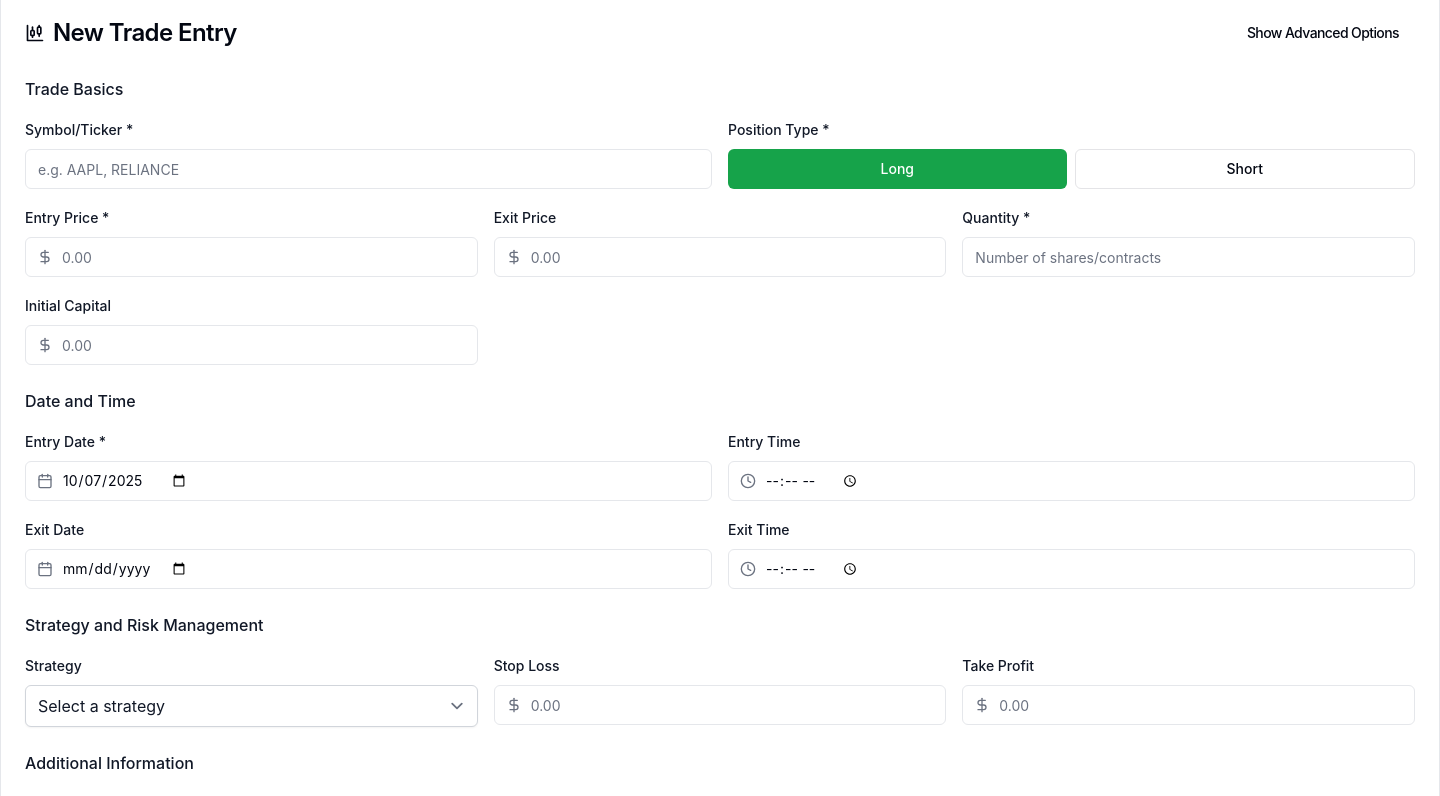
Test: TradeForm Component › renders advanced options when button is clicked
Check: the text "Advanced Trade Details" is not shown
// Click the show advanced options button
What coordinates should you click on to do the following:
click the button "Show Advanced Options"
I would click on:
 (1323, 33)
Its box is [1231,13,1415,53].
(page scrolled)
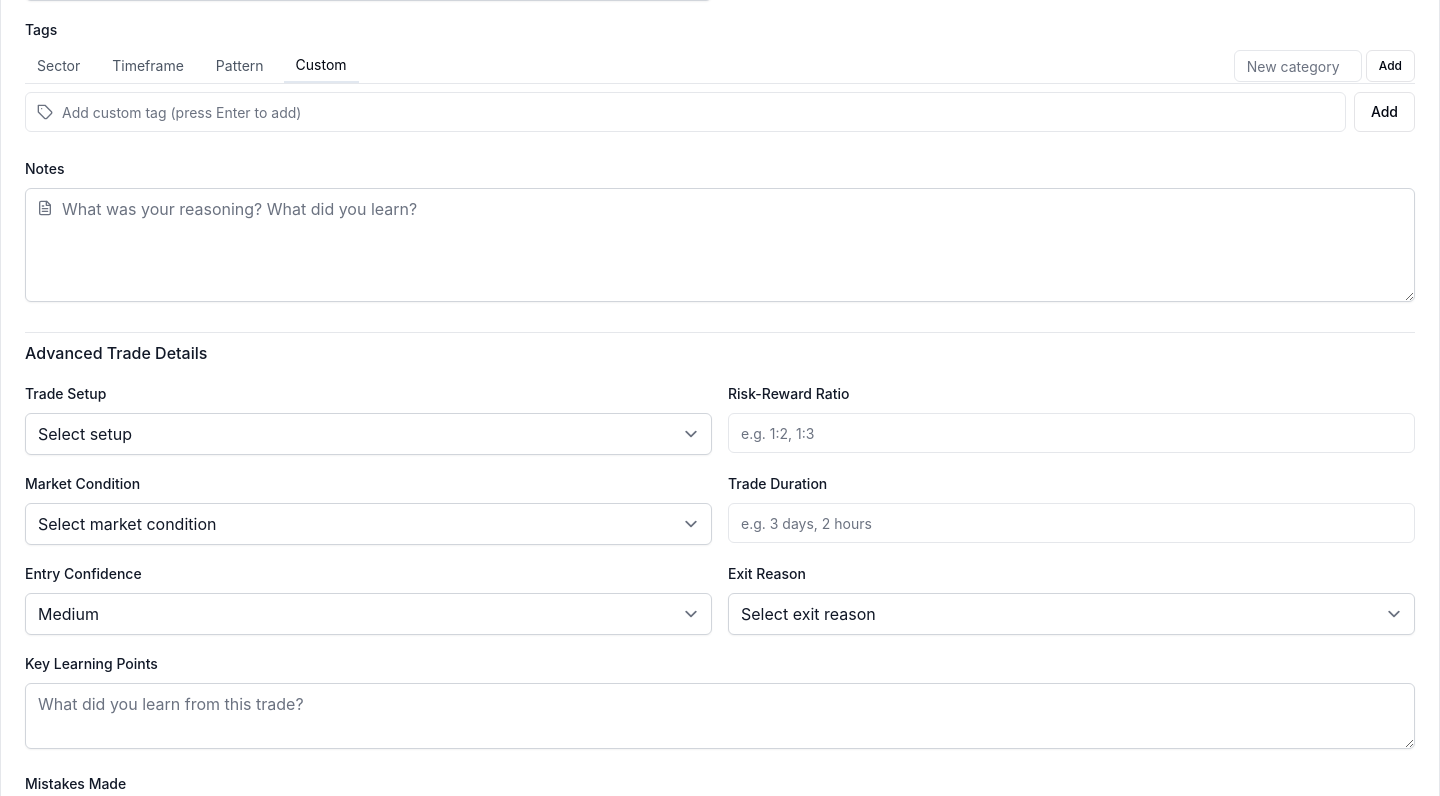
Check: the heading "Advanced Trade Details" is shown, box [25,343,207,363]
Check: the text "Trade Setup" is shown, box [25,385,106,402]
Check: the text "Risk-Reward Ratio" is shown, box [728,385,849,402]
